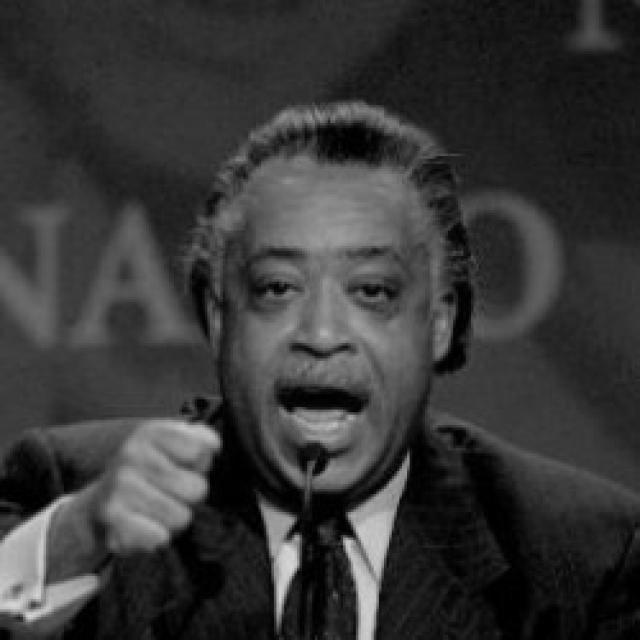real: (205, 140, 449, 504), (242, 262, 410, 315)
